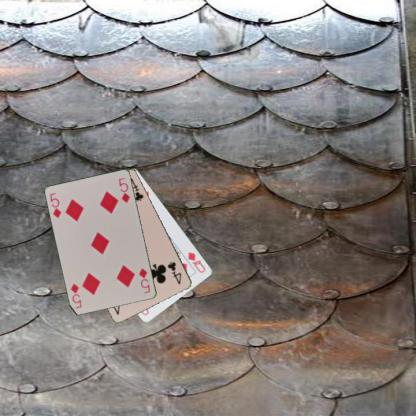4c: (165, 259, 183, 286)
5d: (47, 190, 63, 220), (136, 266, 152, 295)
Qd: (185, 250, 207, 274)
